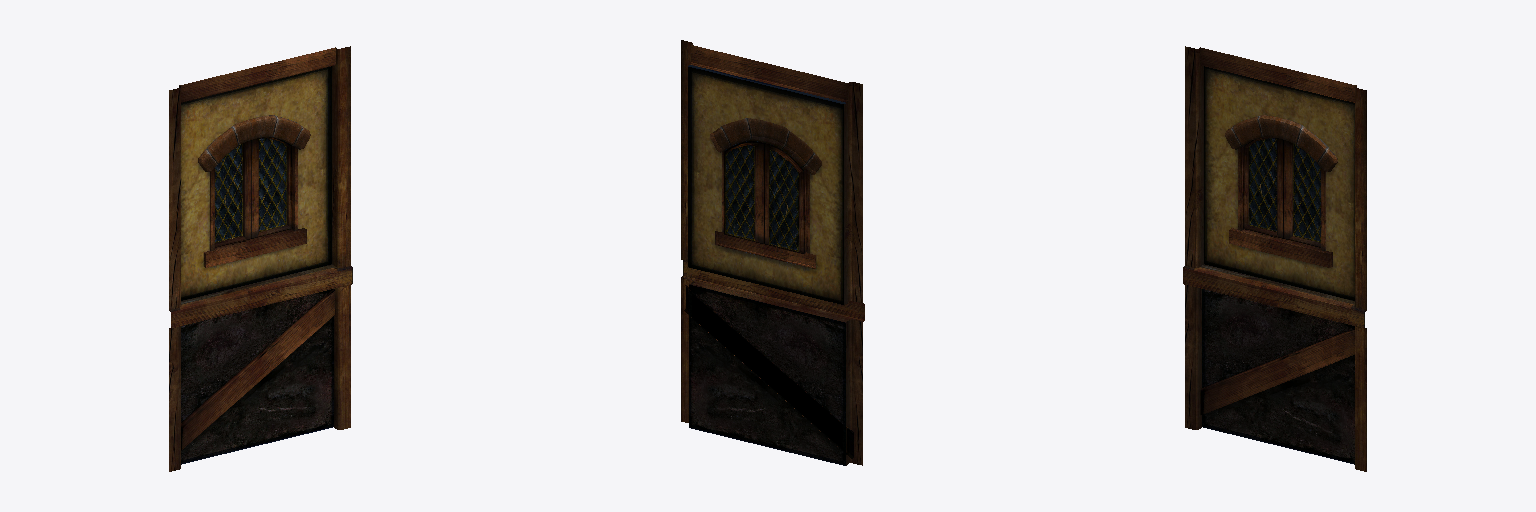
3 renders of one model, left to right at view 1: azimuth 30°, elevation 25°; view 2: azimuth 150°, elevation 25°; view 3: azimuth 330°, elevation 25°, orthographic.
Parts seen in each view (by area): view 1: Wall001_M021; view 2: Wall001_M021; view 3: Wall001_M021.
Boxes of the visible parts, <box> form: Wall001_M021: <box>169,46,352,471</box>; Wall001_M021: <box>681,40,864,465</box>; Wall001_M021: <box>1183,46,1366,471</box>.
Size of the model in its own units: 128 by 256 by 14.27.
1 materials, 1 textured.